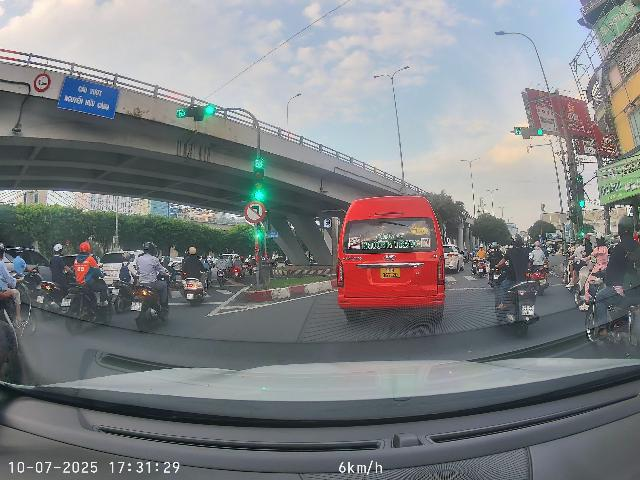123a-cam-re-trai: (244, 201, 266, 223)
